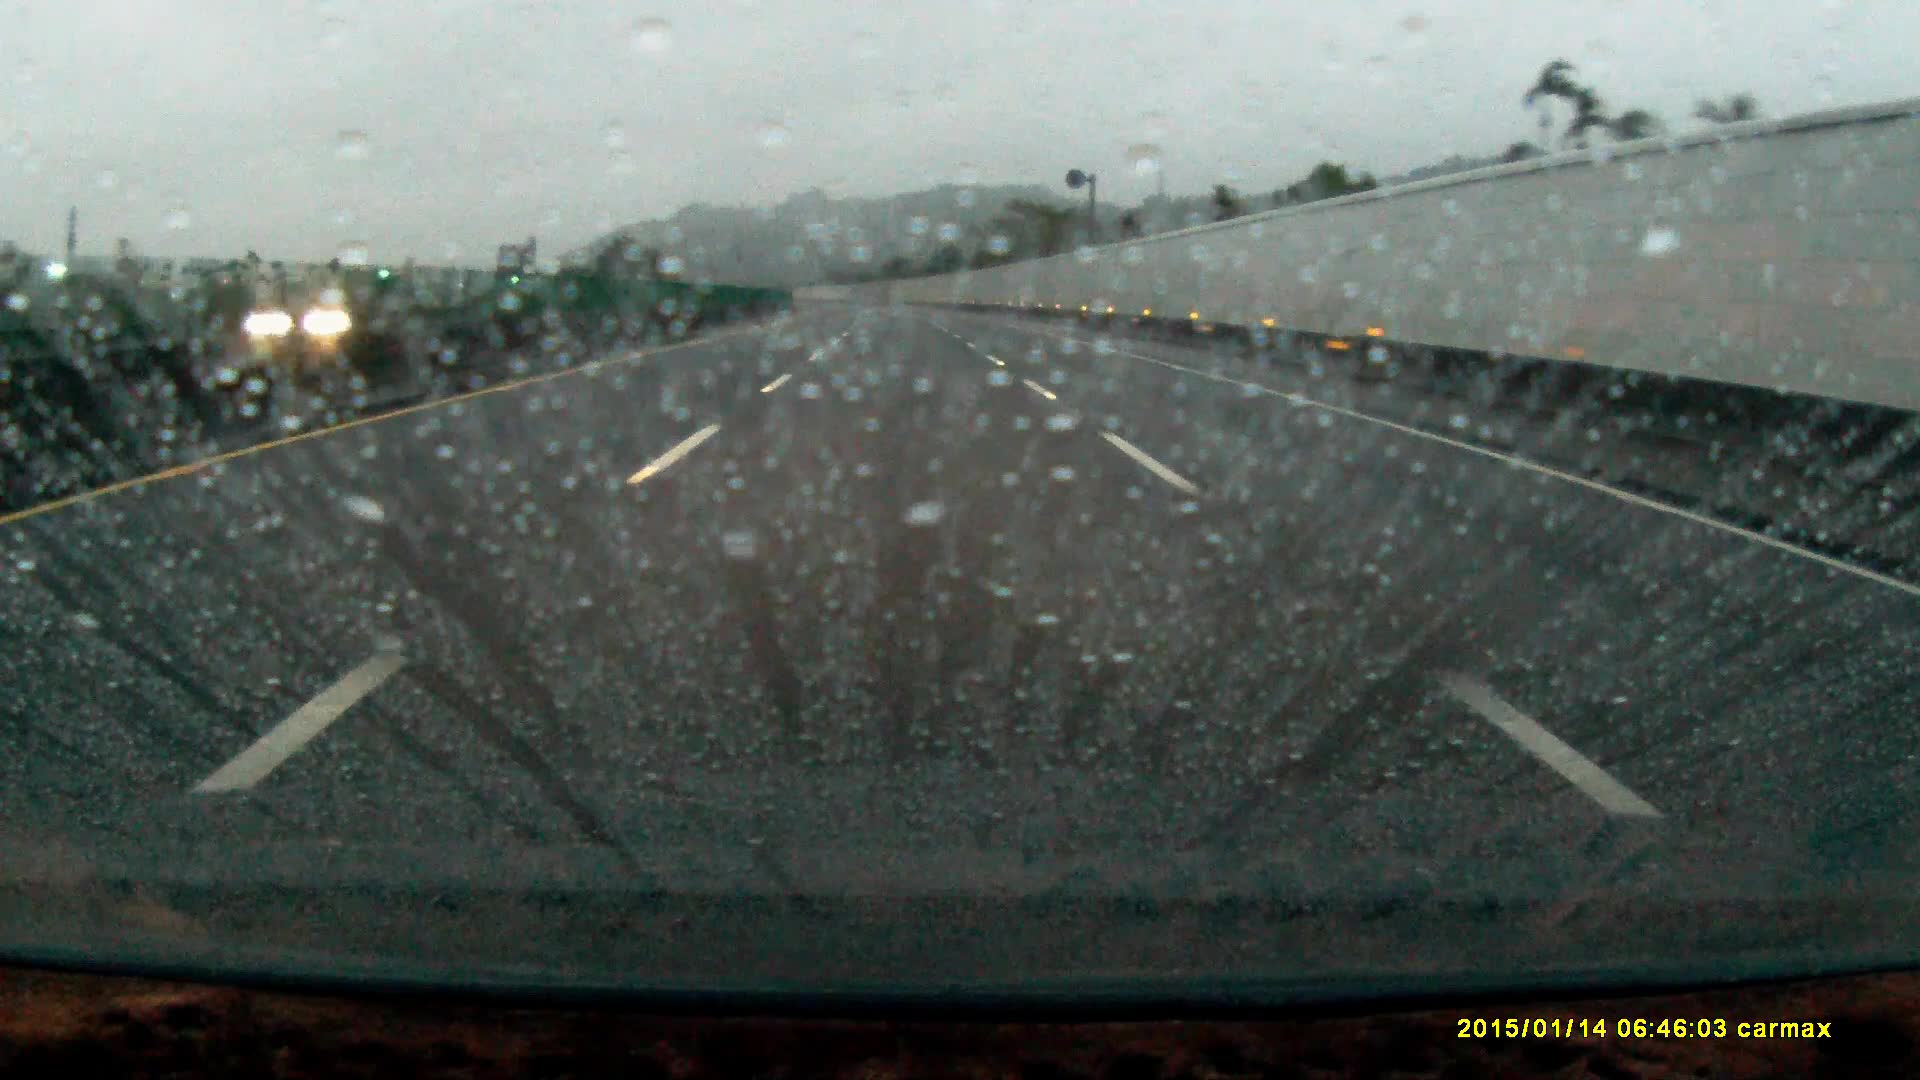vehicle: (240, 290, 351, 339)
